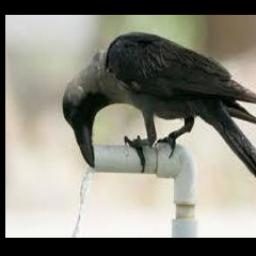Crow: (62, 31, 256, 185)
